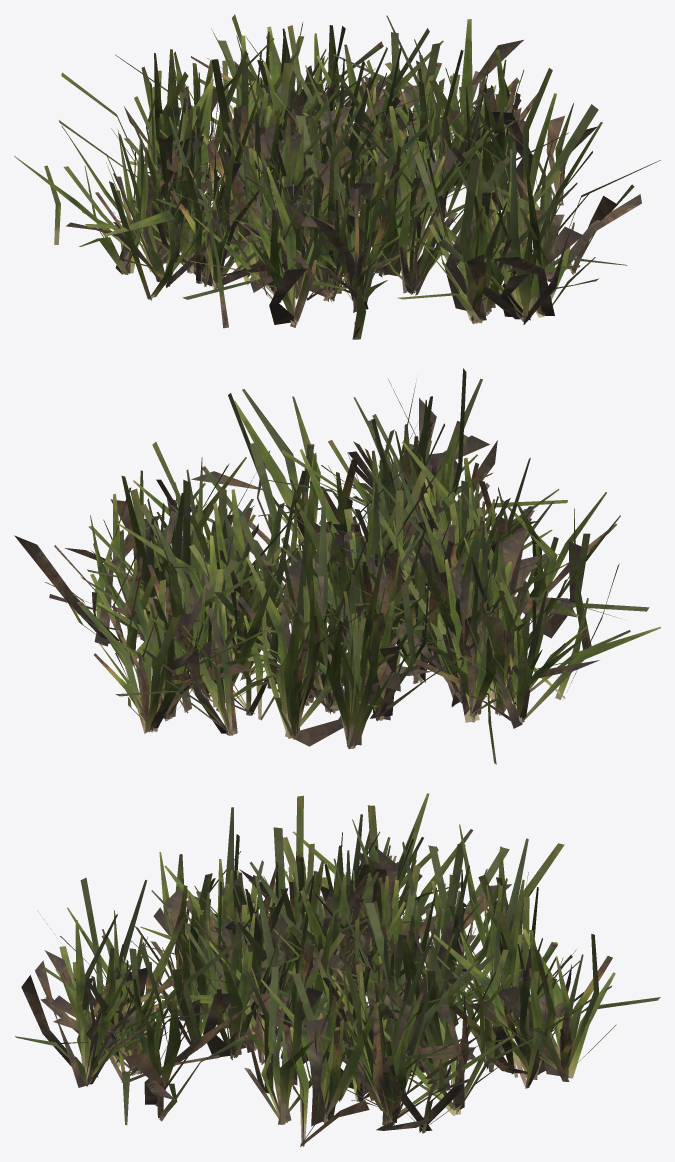
The model's file is grass_individual.glb.
The picture shows the model from 3 angles, top to bottom: view 1: azimuth 30°, elevation 25°; view 2: azimuth 150°, elevation 25°; view 3: azimuth 270°, elevation 25°; orthographic projection. The views are drawn at different scales.
Parts seen in each view (by area): view 1: _c2fa_Var1_LOD1, _586b_Var3_LOD1, _d1ba_Var2_LOD1; view 2: _c2fa_Var1_LOD1, _d1ba_Var2_LOD1, _586b_Var3_LOD1; view 3: _c2fa_Var1_LOD1, _d1ba_Var2_LOD1, _586b_Var3_LOD1.
Boxes of the visible parts, x1,y1,x2,y2 form: _c2fa_Var1_LOD1: [14, 14, 627, 327]; _586b_Var3_LOD1: [116, 28, 660, 324]; _d1ba_Var2_LOD1: [44, 25, 634, 339]; _c2fa_Var1_LOD1: [44, 378, 660, 748]; _d1ba_Var2_LOD1: [14, 442, 619, 764]; _586b_Var3_LOD1: [110, 368, 567, 711]; _c2fa_Var1_LOD1: [15, 793, 660, 1130]; _d1ba_Var2_LOD1: [53, 795, 583, 1146]; _586b_Var3_LOD1: [45, 819, 557, 1124].
Bounding box in the file's own units: 0.9605 × 0.319 × 1.03.
1 material, 1 textured.
